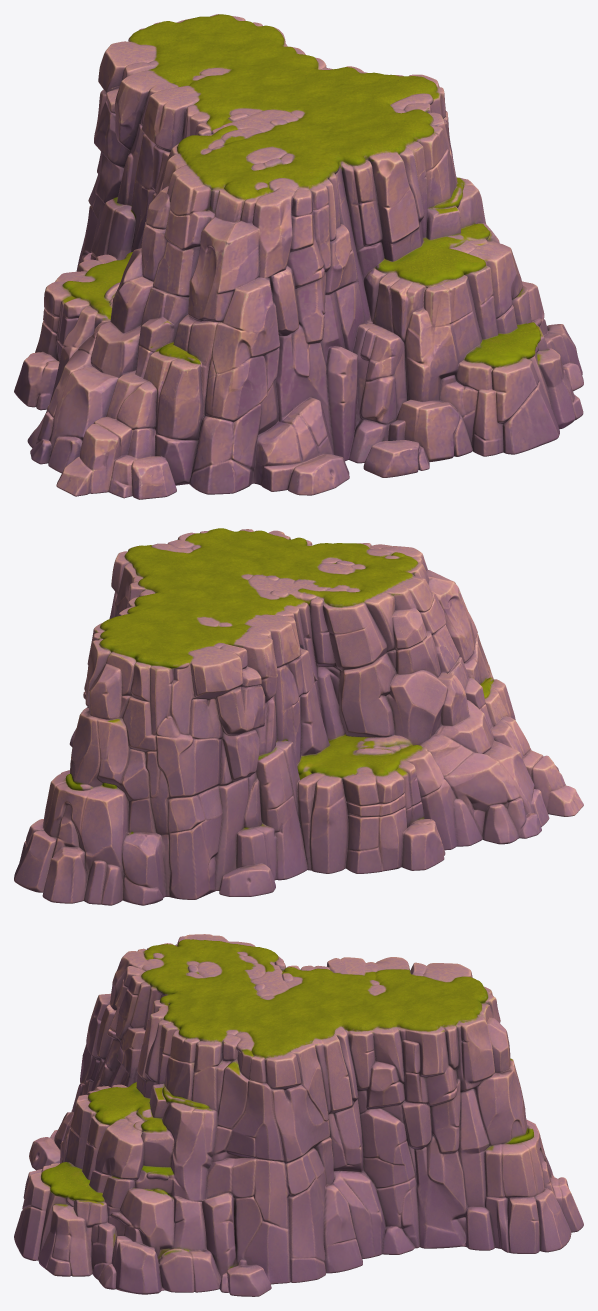
File: 03-cliff-plateau.glb
The picture shows the model from 3 angles, top to bottom: view 1: azimuth 30°, elevation 25°; view 2: azimuth 150°, elevation 25°; view 3: azimuth 270°, elevation 25°; orthographic projection. The views are drawn at different scales.
Bounding box in the file's own units: 1.71 × 0.7888 × 1.9.
Materials: 1 (1 with a texture image).
